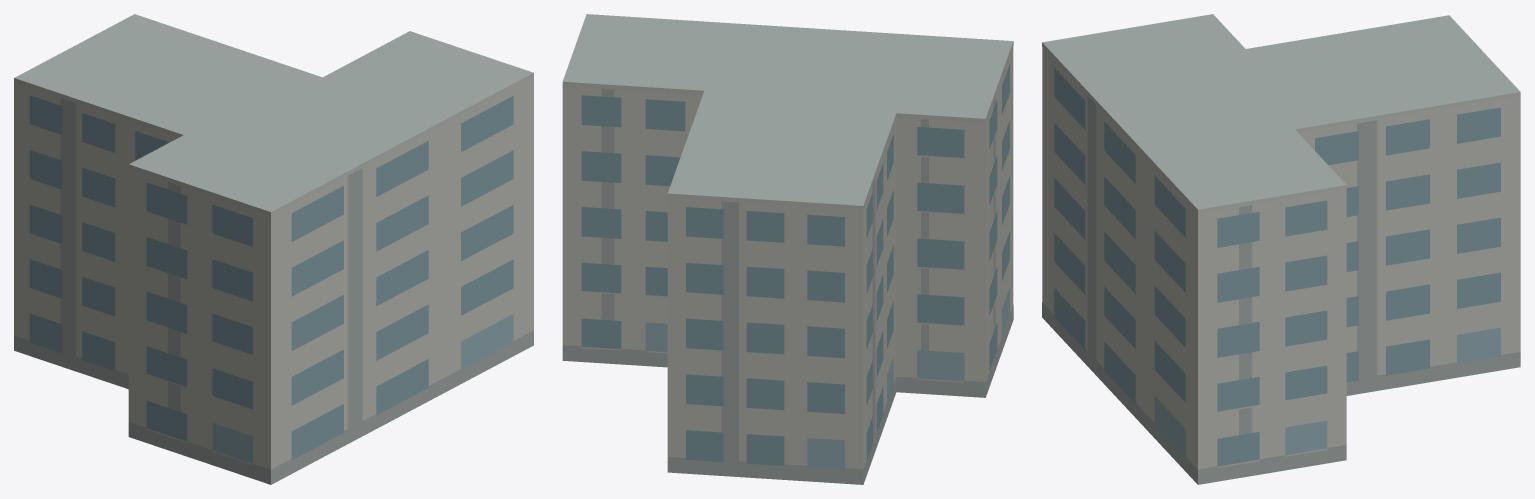
File: residential-9dfef3d6-c0be-4383-be1e-ac38b20c9781.glb
3 views of the same model, side by side, from view 1: azimuth 30°, elevation 25°; view 2: azimuth 150°, elevation 25°; view 3: azimuth 270°, elevation 25° (orthographic). The views are drawn at different scales.
Visible parts, largest first — view 1: residential-9dfef3d6-c0be-4383-be1e-ac38b20c9781.tmp; view 2: residential-9dfef3d6-c0be-4383-be1e-ac38b20c9781.tmp; view 3: residential-9dfef3d6-c0be-4383-be1e-ac38b20c9781.tmp.
Boxes of the visible parts, left/top/right/bottom form: residential-9dfef3d6-c0be-4383-be1e-ac38b20c9781.tmp: left=14, top=14, right=533, bottom=484; residential-9dfef3d6-c0be-4383-be1e-ac38b20c9781.tmp: left=562, top=14, right=1013, bottom=484; residential-9dfef3d6-c0be-4383-be1e-ac38b20c9781.tmp: left=1042, top=14, right=1520, bottom=484.
Bounding box in the file's own units: 23.27 × 15.25 × 24.05.
